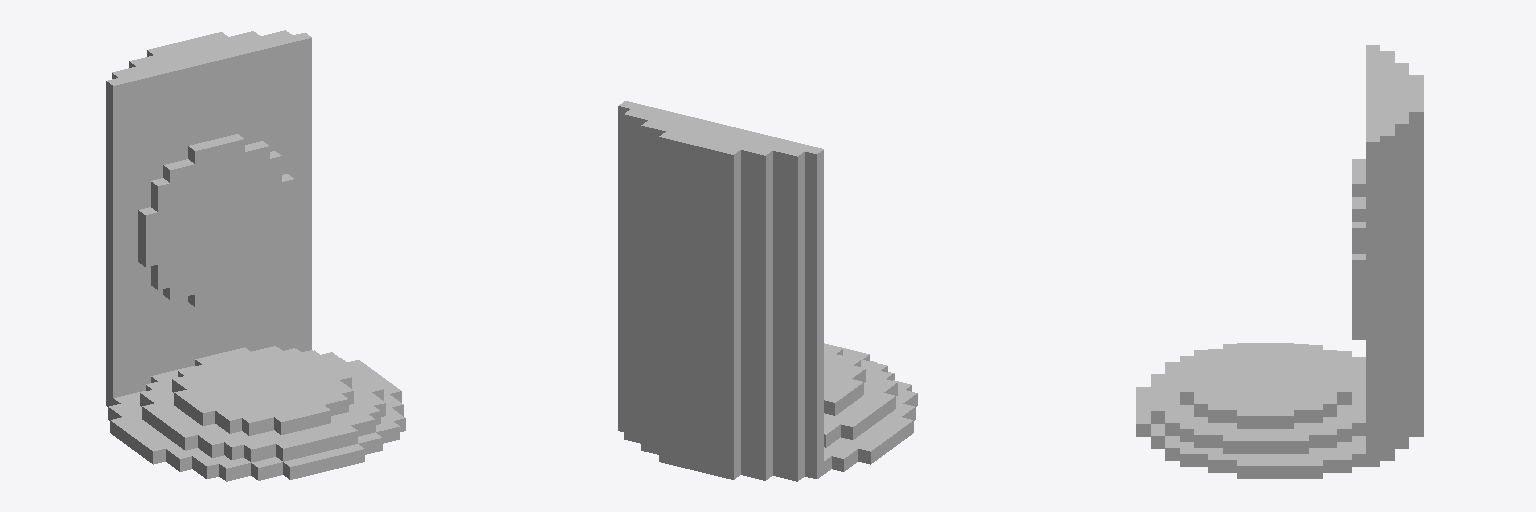
Rendered from Sanitizer-1-sanitizing base.obj.
3 renders of one model, left to right at view 1: azimuth 30°, elevation 25°; view 2: azimuth 150°, elevation 25°; view 3: azimuth 270°, elevation 25°, orthographic.
Visible parts, largest first — view 1: sanitizing base; view 2: sanitizing base; view 3: sanitizing base.
Part boxes in pixels (x1,y1,x2,y2): sanitizing base: (106,30,405,481); sanitizing base: (618,101,917,481); sanitizing base: (1136,45,1423,478).
Size of the model in its own units: 2 by 2.5 by 2.